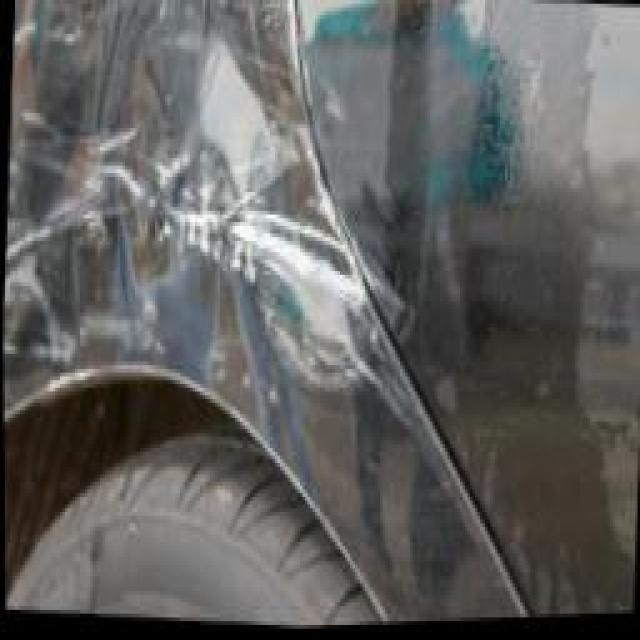Fender: (2, 0, 395, 537)
